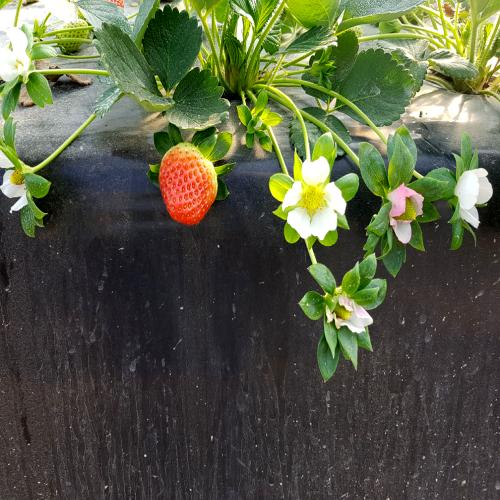partially-ripe: (160, 139, 221, 231)
